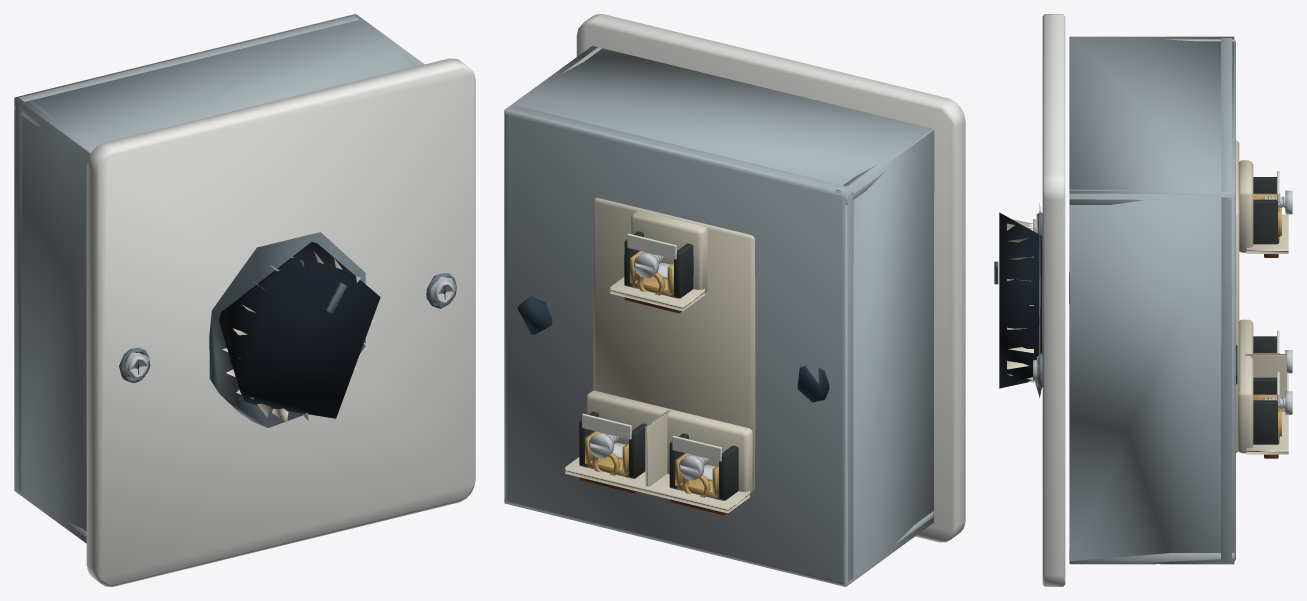
The model's file is selector_rotary.low.glb.
3 renders of one model, left to right at view 1: azimuth 30°, elevation 25°; view 2: azimuth 150°, elevation 25°; view 3: azimuth 270°, elevation 25°, orthographic. The views are drawn at different scales.
Parts seen in each view (by area): view 1: part:cover, part:body · Original 2a8198d3, part:actuator, detail:faceplate-fixing · Detail zinc plated fixing, motion:rotary · Original 5a609f27, part:cover · Original 0905ee26; view 2: part:body · Original 2a8198d3, part:terminals · Original 5a609f27, part:cover, part:body · Original a463fd81, detail:terminal-clamp:A · Detail moulded engineering polymer, detail:terminal-clamp:COM · Detail moulded engineering polym, detail:terminal-clamp:B · Detail moulded engineering polymer, detail:terminal-clamp:A · Detail machined brass, detail:terminal-clamp:B · Detail machined brass, detail:terminal-clamp:COM · Detail machined brass, Moulded terminal legend pad.001, Moulded terminal legend pad.002 (+4 smaller); view 3: part:body · Original 2a8198d3, part:cover, part:actuator, part:terminals · Original 5a609f27, detail:terminal-clamp:B · Detail moulded engineering polymer, detail:terminal-clamp:COM · Detail moulded engineering polym, motion:rotary · Original 5a609f27, detail:terminal-clamp:A · Detail moulded engineering polymer.
Part boxes in pixels (x1,y1,x2,y2): part:cover: [86, 58, 475, 586]; part:body · Original 2a8198d3: [14, 14, 424, 543]; part:actuator: [209, 232, 380, 427]; detail:faceplate-fixing · Detail zinc plated fixing: [128, 281, 454, 378]; motion:rotary · Original 5a609f27: [222, 251, 375, 422]; part:cover · Original 0905ee26: [119, 273, 456, 382]; part:body · Original 2a8198d3: [504, 46, 934, 586]; part:terminals · Original 5a609f27: [565, 197, 755, 513]; part:cover: [576, 14, 965, 542]; part:body · Original a463fd81: [517, 296, 829, 402]; detail:terminal-clamp:A · Detail moulded engineering polymer: [669, 433, 738, 500]; detail:terminal-clamp:COM · Detail moulded engineering polym: [624, 231, 693, 298]; detail:terminal-clamp:B · Detail moulded engineering polymer: [579, 411, 647, 478]; detail:terminal-clamp:A · Detail machined brass: [675, 453, 718, 498]; detail:terminal-clamp:B · Detail machined brass: [585, 431, 628, 476]; detail:terminal-clamp:COM · Detail machined brass: [630, 251, 673, 296]; Moulded terminal legend pad.001: [672, 435, 721, 461]; Moulded terminal legend pad.002: [582, 413, 631, 439]; part:body · Original 2a8198d3: [1069, 36, 1235, 564]; part:cover: [1042, 14, 1065, 586]; part:actuator: [999, 203, 1042, 397]; part:terminals · Original 5a609f27: [1236, 140, 1288, 454]; detail:terminal-clamp:B · Detail moulded engineering polymer: [1253, 377, 1279, 444]; detail:terminal-clamp:COM · Detail moulded engineering polym: [1253, 177, 1279, 244]; motion:rotary · Original 5a609f27: [1007, 219, 1033, 382]; detail:terminal-clamp:A · Detail moulded engineering polymer: [1253, 336, 1276, 352].
Size of the model in its own units: 0.8902 by 0.9795 by 0.644.
